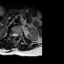CCS_normal: (14, 31, 16, 40)
LFS_stenosis: (18, 32, 20, 37)
LLS_normal: (16, 31, 18, 38)
RFS_normal: (10, 31, 12, 38)
RLS_normal: (12, 31, 14, 38)
